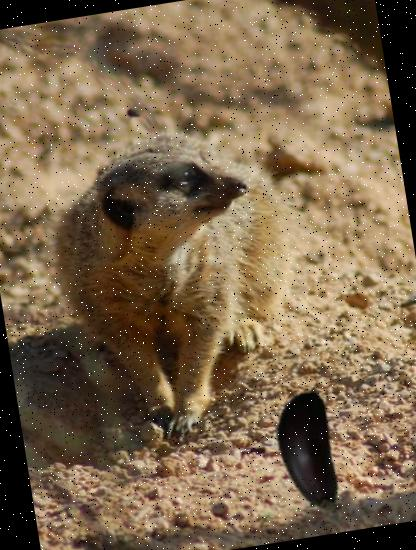Eggplant: (233, 381, 381, 528)
